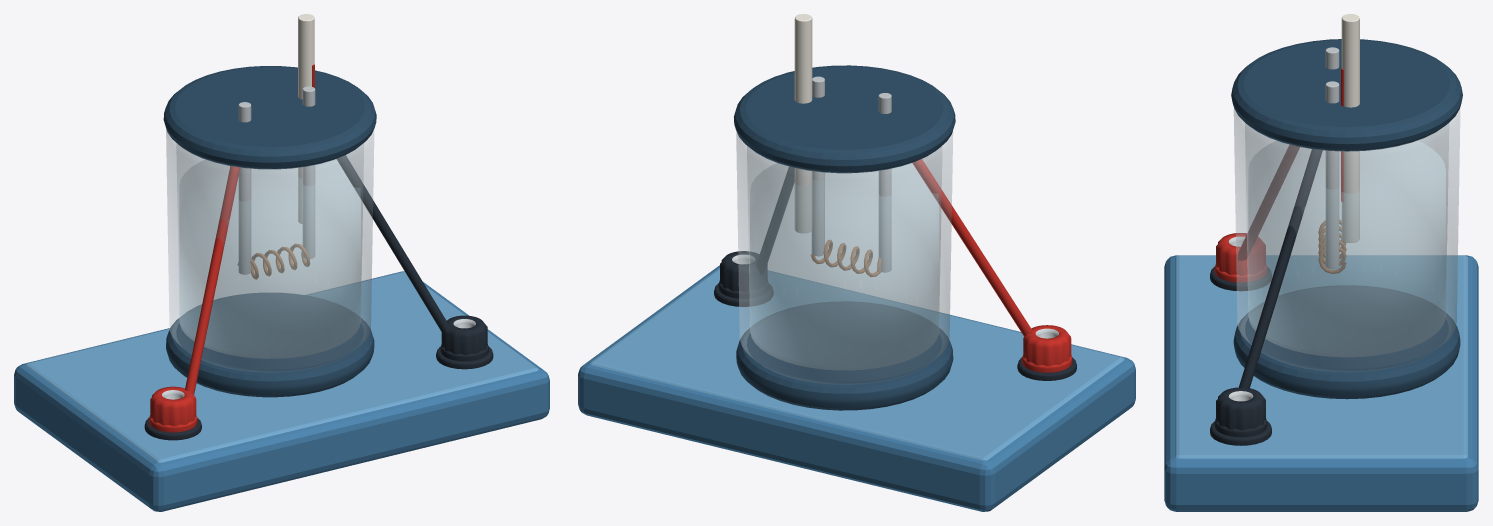
Rendered from joule-calorimeter.glb.
3 renders of one model, left to right at view 1: azimuth 30°, elevation 25°; view 2: azimuth 150°, elevation 25°; view 3: azimuth 270°, elevation 25°, orthographic. The views are drawn at different scales.
Visible parts, largest first — view 1: Open-mouthed calorimeter glass, Top shoulder, Water fill, Joule heating apparatus base, Insulated calorimeter lid, Insulating cradle disc, Left electrical lead, Right electrical lead, Heating element vertical electrode, p binding socket, n binding socket, Glass thermometer stem (+2 smaller); view 2: Open-mouthed calorimeter glass, Top shoulder, Water fill, Joule heating apparatus base, Insulating cradle disc, Insulated calorimeter lid, Glass thermometer stem, Left electrical lead, p binding socket, Heating element vertical electrode, n binding socket, Heating element vertical electrode.001 (+2 smaller); view 3: Open-mouthed calorimeter glass, Top shoulder, Water fill, Joule heating apparatus base, Insulating cradle disc, Insulated calorimeter lid, Glass thermometer stem, Right electrical lead, Heating element vertical electrode.001, n binding socket, p binding socket, Left electrical lead (+5 smaller).
Part boxes in pixels (box(x1,y1,x2,y2)): Open-mouthed calorimeter glass: box(166, 129, 373, 372); Top shoulder: box(25, 271, 538, 462); Water fill: box(179, 160, 360, 355); Joule heating apparatus base: box(14, 271, 549, 511); Insulated calorimeter lid: box(163, 66, 376, 169); Insulating cradle disc: box(166, 293, 374, 397); Left electrical lead: box(185, 166, 239, 394); Right electrical lead: box(337, 155, 449, 336); Heating element vertical electrode: box(238, 102, 251, 274); p binding socket: box(150, 386, 196, 426); n binding socket: box(441, 315, 487, 355); Glass thermometer stem: box(298, 14, 314, 223); Open-mouthed calorimeter glass: box(736, 132, 952, 384); Top shoulder: box(589, 268, 1124, 460); Water fill: box(750, 163, 938, 366); Joule heating apparatus base: box(578, 265, 1135, 511); Insulating cradle disc: box(736, 301, 953, 410); Insulated calorimeter lid: box(734, 65, 955, 173); Glass thermometer stem: box(794, 14, 812, 232); Left electrical lead: box(912, 159, 1031, 336); p binding socket: box(1023, 325, 1071, 366); Heating element vertical electrode: box(878, 93, 891, 272); n binding socket: box(720, 251, 767, 292); Heating element vertical electrode.001: box(812, 76, 824, 255); Open-mouthed calorimeter glass: box(1234, 109, 1459, 371); Top shoulder: box(1175, 255, 1467, 458); Water fill: box(1248, 141, 1445, 353); Joule heating apparatus base: box(1164, 255, 1478, 511); Insulating cradle disc: box(1233, 285, 1460, 399); Insulated calorimeter lid: box(1231, 39, 1462, 151); Glass thermometer stem: box(1341, 14, 1359, 242); Right electrical lead: box(1239, 149, 1322, 388); Heating element vertical electrode.001: box(1325, 81, 1339, 268); n binding socket: box(1216, 387, 1265, 430); p binding socket: box(1216, 233, 1265, 275); Left electrical lead: box(1238, 145, 1299, 260).
Size of the model in its own units: 0.137 by 0.126 by 0.086.
